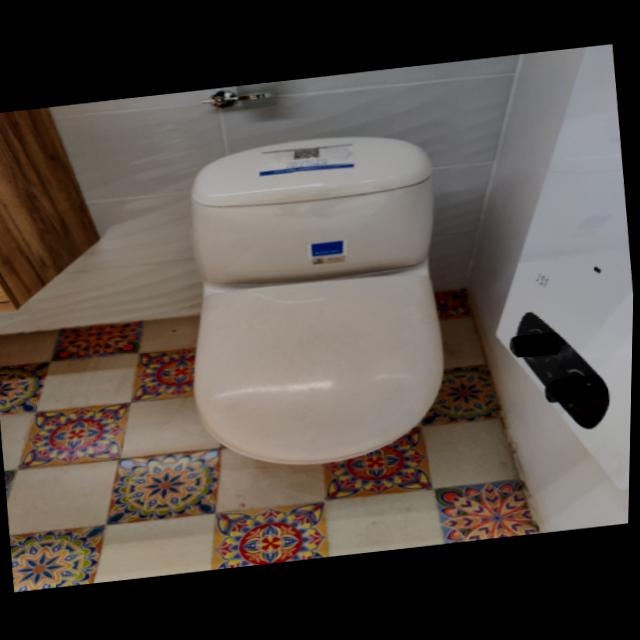toilet: (168, 124, 466, 477)
